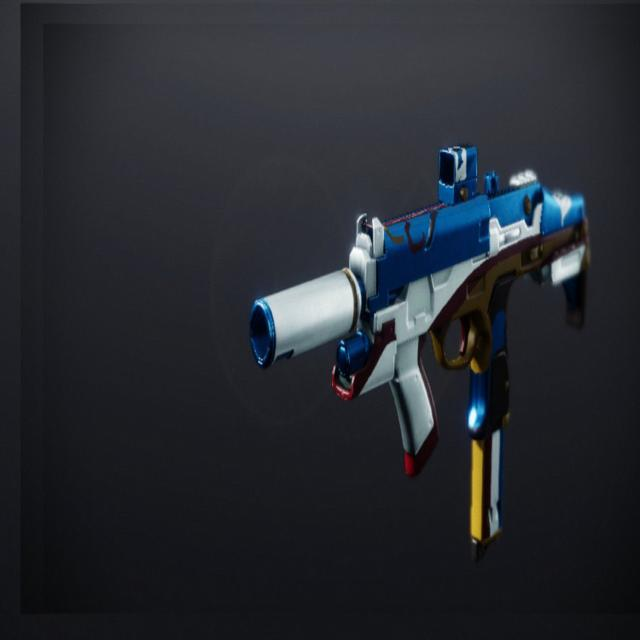Weapon: (249, 143, 589, 558)
